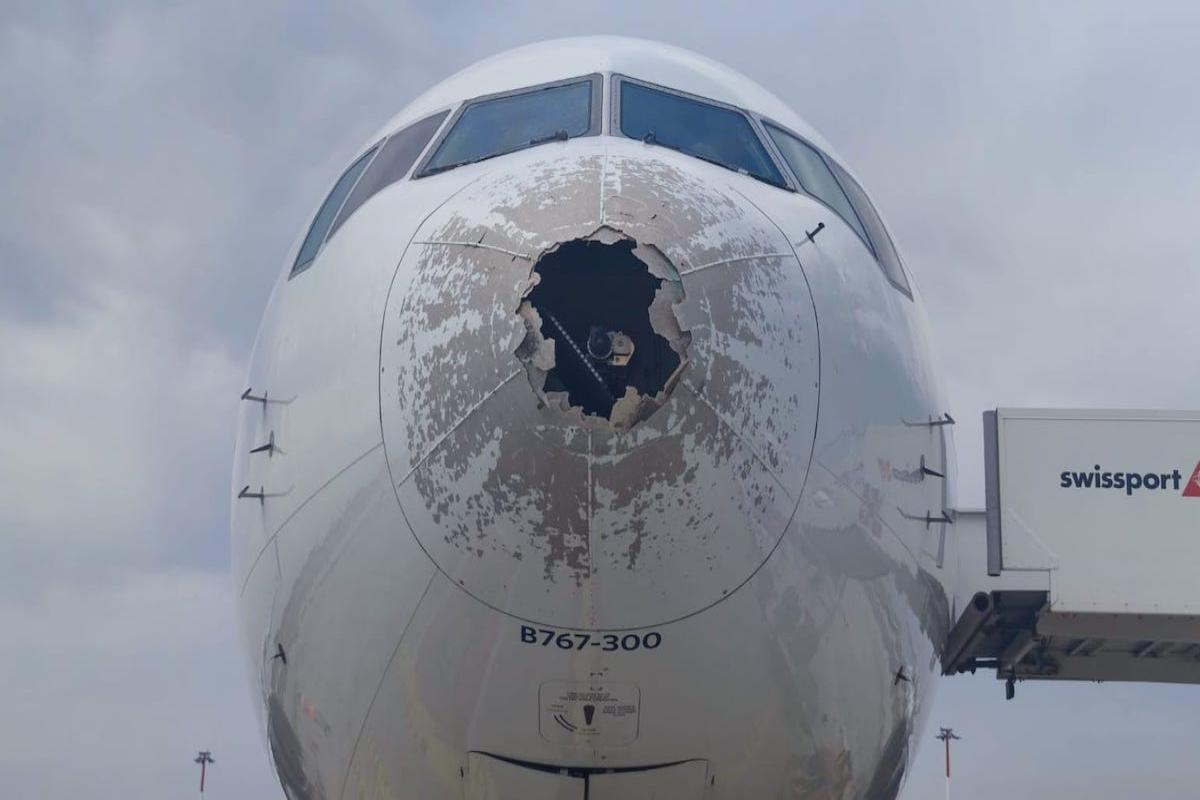Fuselage_damage: (383, 144, 811, 613)
